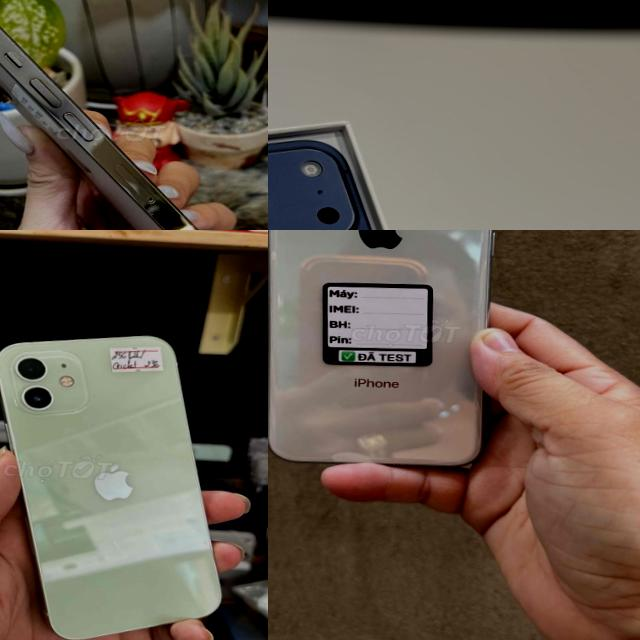gen_12_13: (0, 326, 242, 640), (0, 0, 268, 230)
gen_17: (268, 141, 480, 230)
gen_x_xs: (268, 230, 506, 481)
